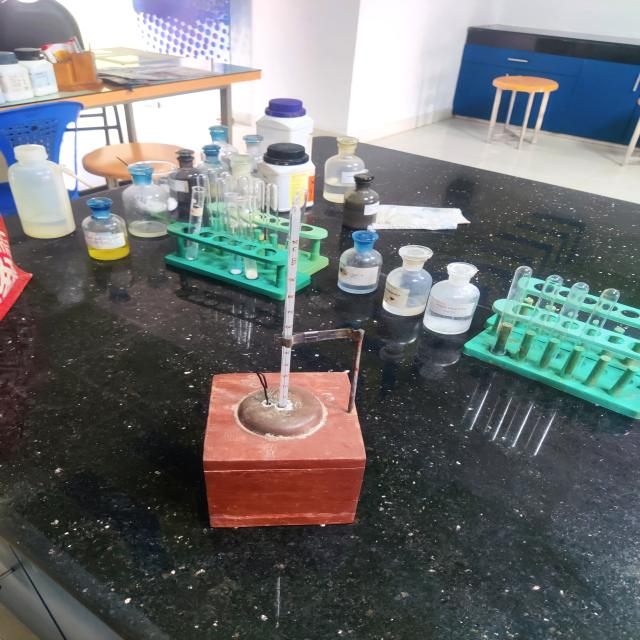Calorimeter: (175, 178, 396, 542)
